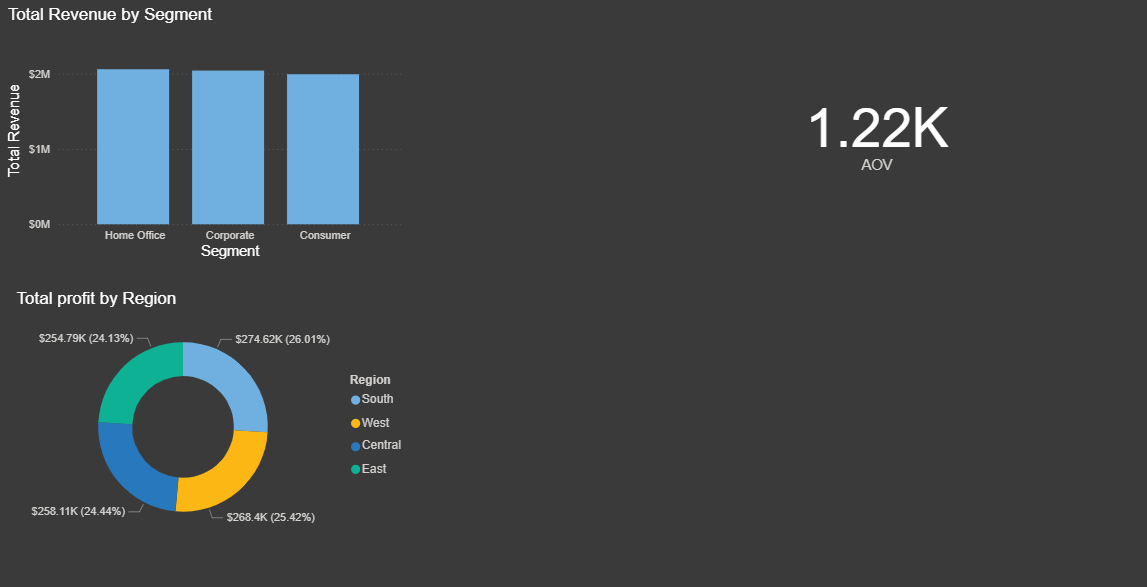

What the dashboard file says about the page in this screenshot:
{"tool":"powerbi","page":{"name":"Page 2","canvas":[1280,720],"ordinal":1},"visuals":[{"type":"clusteredColumnChart","fields":{"Category":["ecommerce_sales_data.Segment"],"Y":["ecommerce_sales_data.Total Revenue"]},"box":[12.3,13.7,441.9,284],"z":0},{"type":"donutChart","fields":{"Category":["ecommerce_sales_data.Region"],"Y":["ecommerce_sales_data.Total profit"]},"box":[22,325.2,441.9,284],"z":2000},{"type":"card","fields":{"Values":["ecommerce_sales_data.AOV"]},"box":[783.5,61.7,376,182.5],"z":2001}]}

Visuals, with their boxes on the page's 1280x720 design canvas (x1, y1, x2, y2). These are canvas units, not pixel positions in the 1147x587 screenshot, which may show the page scaled, cropped or inside an application window:
clusteredColumnChart - ecommerce_sales_data.Segment x ecommerce_sales_data.Total Revenue: crop(12, 14, 454, 298)
donutChart - ecommerce_sales_data.Region x ecommerce_sales_data.Total profit: crop(22, 325, 464, 609)
card - ecommerce_sales_data.AOV: crop(784, 62, 1160, 244)
